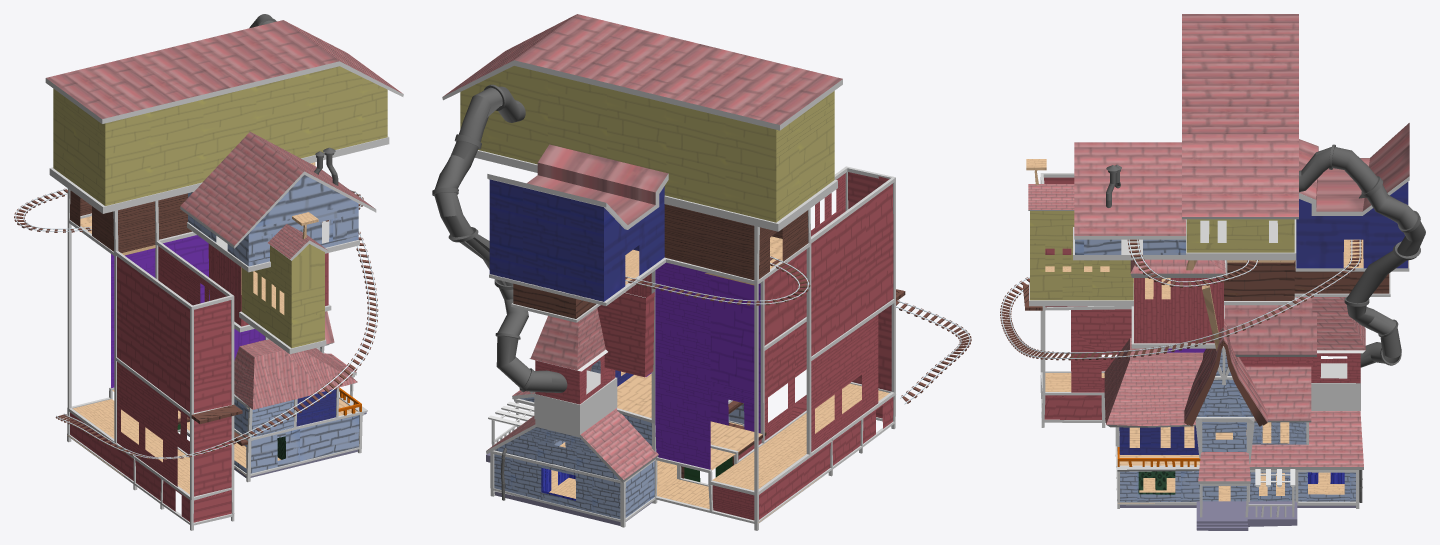
The model's file is hello_neighbor_house_cartoon_showunfinished.glb.
The picture shows the model from 3 angles, left to right: view 1: azimuth 30°, elevation 25°; view 2: azimuth 150°, elevation 25°; view 3: azimuth 270°, elevation 25°; orthographic projection. The views are drawn at different scales.
Visible parts, largest first — view 1: Cube.017_35, Plane.031_46, Cube.024_40, Cube.022_39, Cube.018_36, Cube.012_31, Cube.003_16, Cube.015_34, Plane_44, Plane.033_78, Plane.015_85, Plane.018_10 (+6 smaller); view 2: Cube.017_35, Plane.031_46, Cube.024_40, Cube.022_39, Plane.018_10, Cube.014_33, Cylinder.003_71, Plane.025_17, Plane_44, Cube.002_41, Plane.023_15, Plane.007_83 (+11 smaller); view 3: Cube.022_39, Cube.024_40, Cube.018_36, Cylinder.003_71, Cube.003_16, Cube.012_31, Plane.031_46, Cube.014_33, Cube.006_22, Plane.012_5, Cube.019_37, Plane.033_78 (+27 smaller).
Part boxes in pixels (x1,y1,x2,y2): Cube.017_35: (53,66,387,205); Plane.031_46: (70,246,231,522); Cube.024_40: (45,61,403,530); Cube.022_39: (46,20,402,118); Cube.018_36: (180,132,374,245); Cube.012_31: (241,244,324,348); Cube.003_16: (234,339,357,409); Cube.015_34: (188,175,358,266); Plane_44: (69,190,191,252); Plane.033_78: (14,188,378,459); Plane.015_85: (250,415,359,473); Plane.018_10: (111,235,265,388); Cube.017_35: (460,66,834,222); Plane.031_46: (712,172,893,520); Cube.024_40: (442,60,905,530); Cube.022_39: (443,14,842,124); Plane.018_10: (646,262,760,469); Cube.014_33: (489,179,664,301); Cylinder.003_71: (432,84,567,392); Plane.025_17: (559,371,889,490); Plane_44: (664,204,808,280); Cube.002_41: (527,144,668,224); Plane.023_15: (597,292,654,377); Plane.007_83: (494,454,620,519); Cube.022_39: (1182,14,1298,216); Cube.024_40: (1023,173,1409,530); Cube.018_36: (1074,142,1185,235); Cylinder.003_71: (1299,144,1425,367); Cube.003_16: (1104,338,1203,427); Cube.012_31: (1030,211,1133,300); Plane.031_46: (1044,177,1131,419); Cube.014_33: (1296,182,1408,268); Cube.006_22: (1134,278,1223,343); Plane.012_5: (1249,411,1363,469); Cube.019_37: (1224,297,1316,354); Plane.033_78: (1000,239,1361,360).
Bounding box in the file's own units: 41.95 × 41.13 × 41.6.
21 materials, 13 textured.
